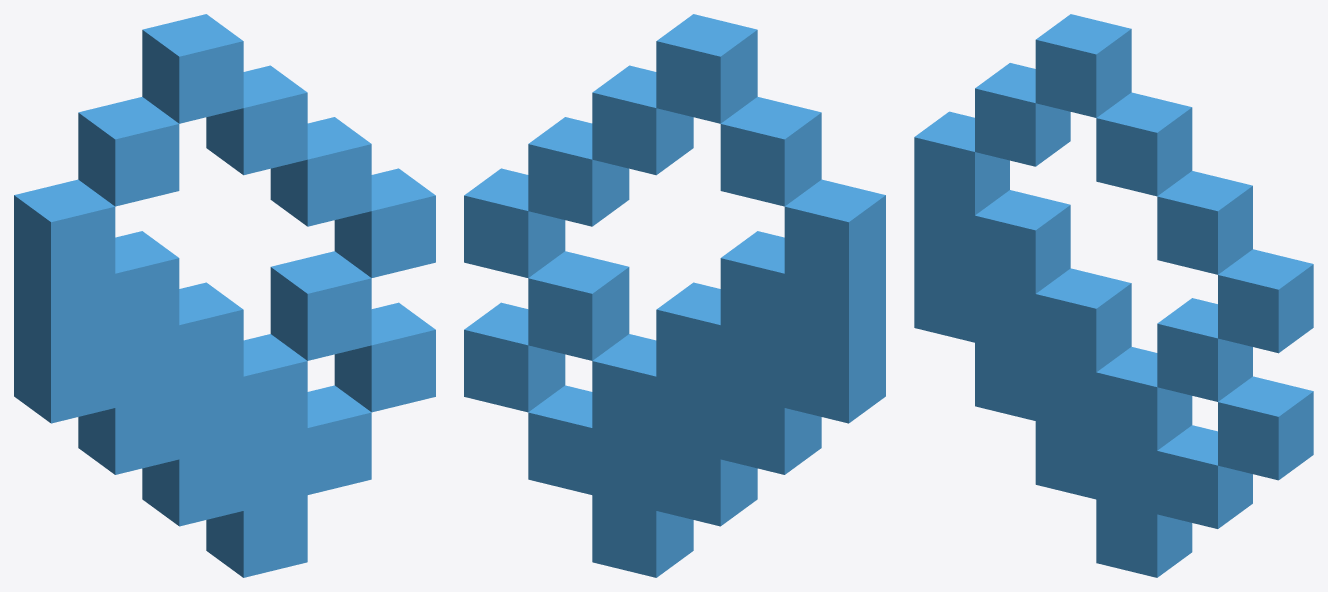
Rendered from Book-War-Blue.vox.obj.
The picture shows the model from 3 angles, left to right: view 1: azimuth 30°, elevation 25°; view 2: azimuth 150°, elevation 25°; view 3: azimuth 330°, elevation 25°; orthographic projection. The views are drawn at different scales.
Size of the model in its own units: 0.6 by 0.8 by 0.1.
Materials: 1 (1 with a texture image).
